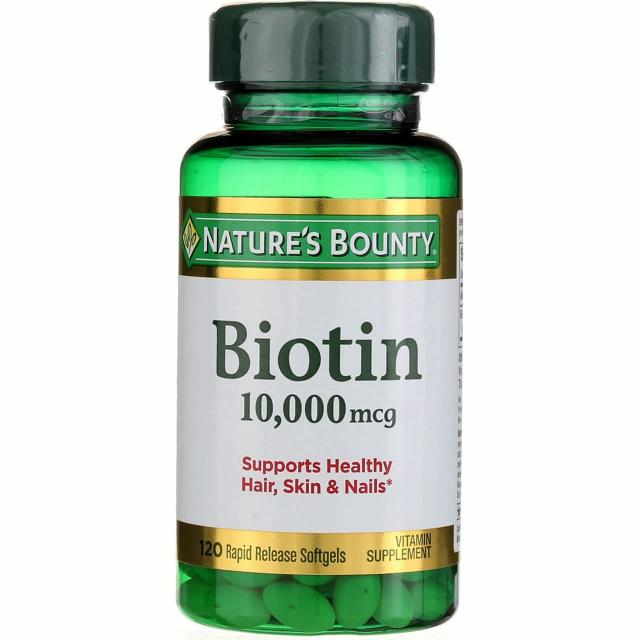food-supliment: (184, 150, 464, 620)
